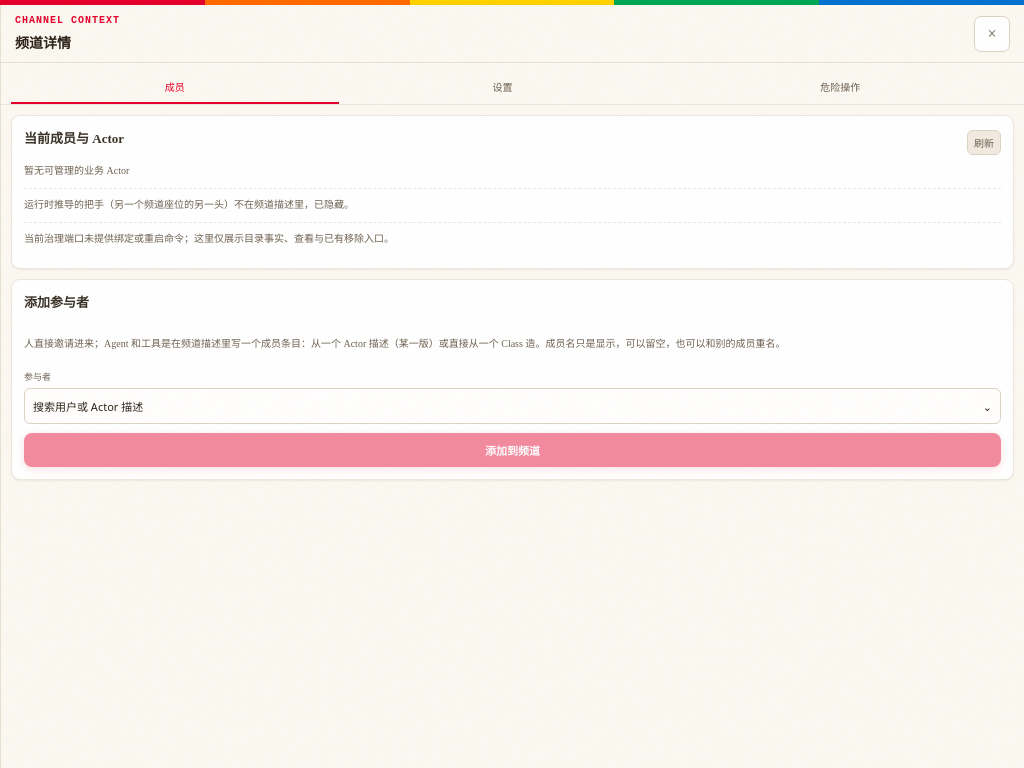
Test: workspace governance feature ports › reports a written profile without reading the directory itself
Click the tab "设置": point(503, 88) [339,71,666,104]
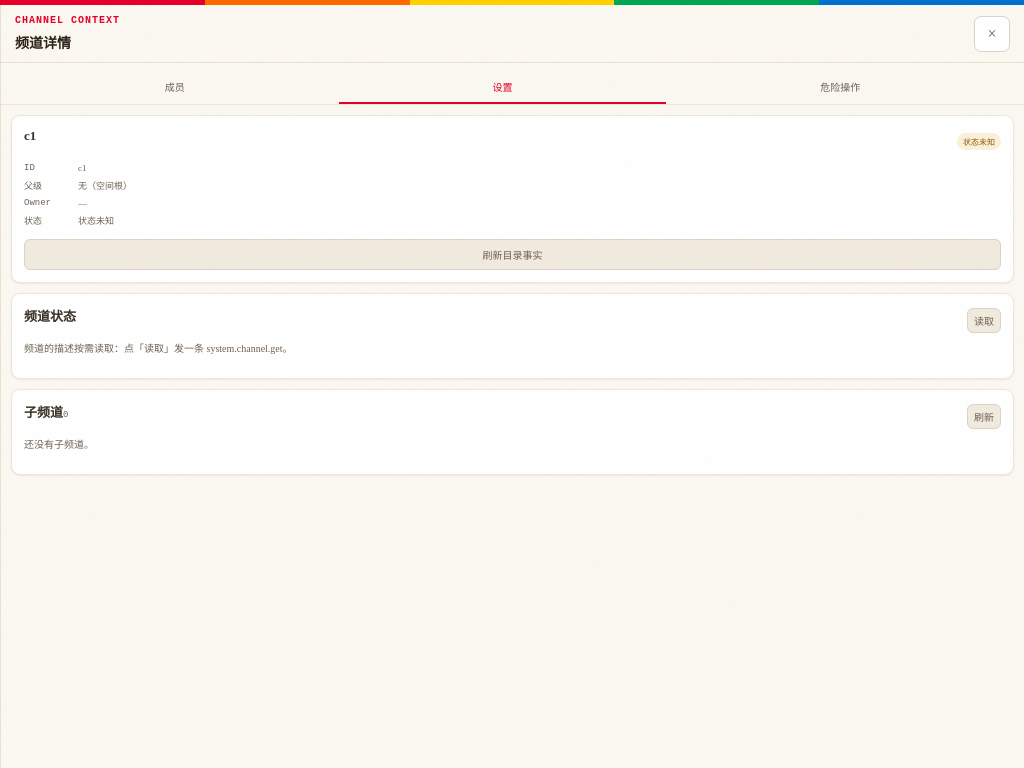
Click the button "读取": point(984, 320) [967,308,1001,333]
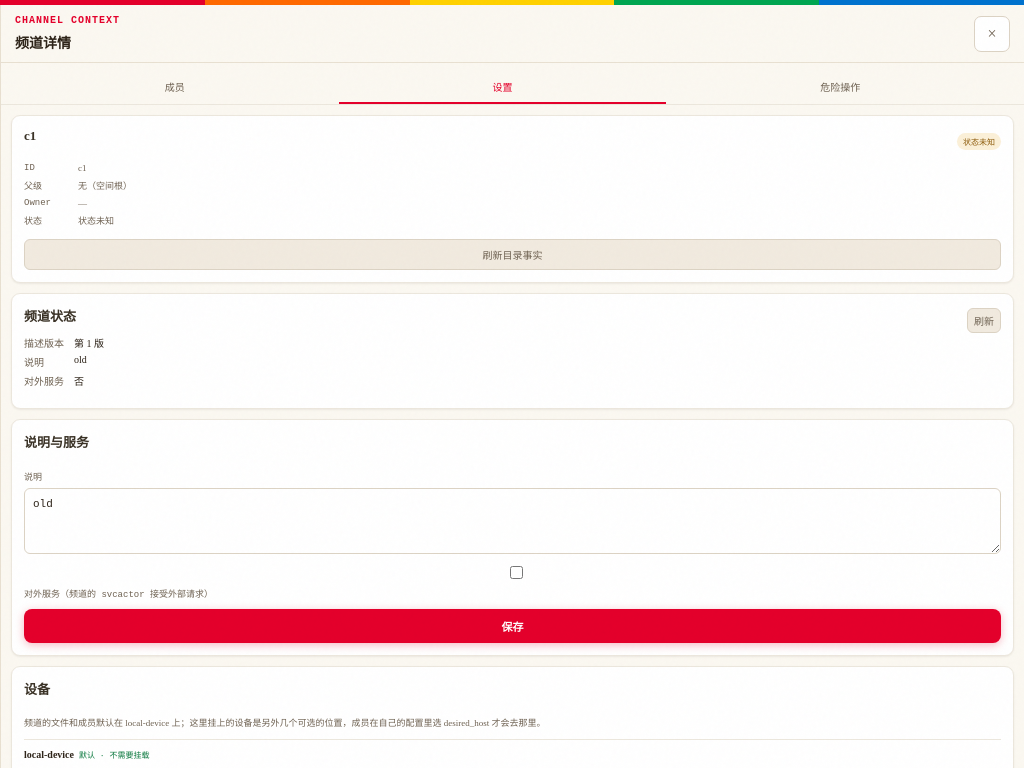
Replace the text in the text box named "频道说明" with "new": point(512, 521) [24,488,1001,554]
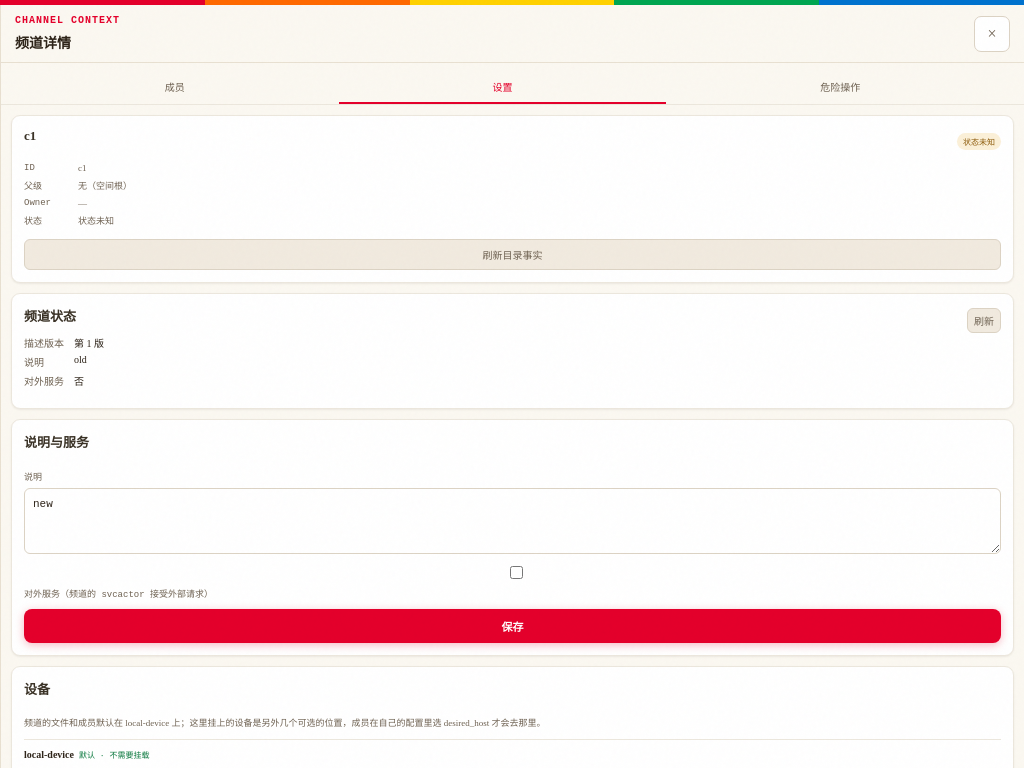
Click the button "保存": point(512, 626) [24,609,1001,643]
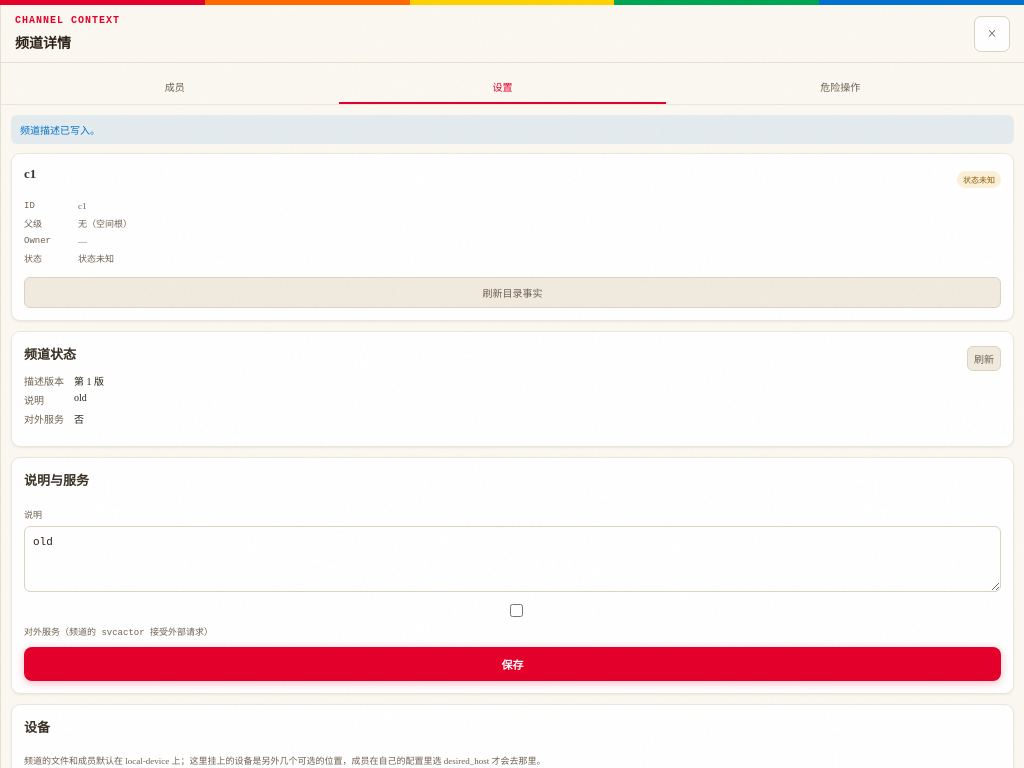
Expected: the message shows "频道描述已写入", [20,125,100,136]
